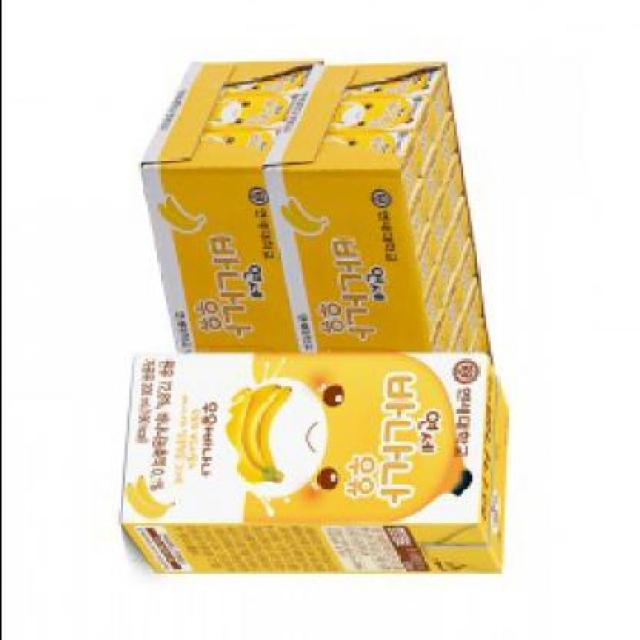tetra: (109, 329, 537, 600)
